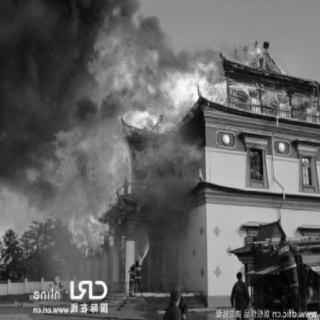Fire: (72, 21, 318, 130), (38, 117, 154, 261)
Smoke: (5, 2, 101, 175)
